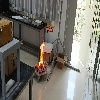fire: (36, 37, 45, 71)
